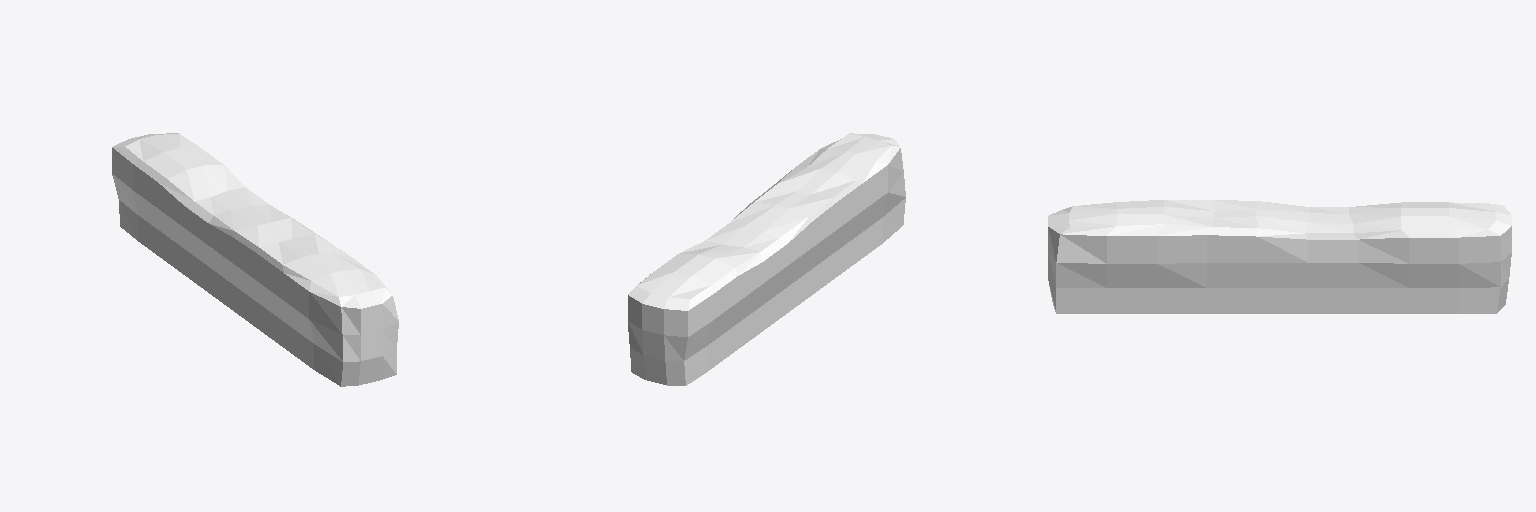
File: zywoplot.obj
3 views of the same model, side by side, from view 1: azimuth 30°, elevation 25°; view 2: azimuth 150°, elevation 25°; view 3: azimuth 270°, elevation 25° (orthographic).
Parts seen in each view (by area): view 1: zywoplot; view 2: zywoplot; view 3: zywoplot.
Part boxes in pixels (x1,y1,x2,y2): zywoplot: (112,133,398,386); zywoplot: (628,133,905,385); zywoplot: (1048,200,1511,313).
Size of the model in its own units: 50.86 by 63.62 by 304.